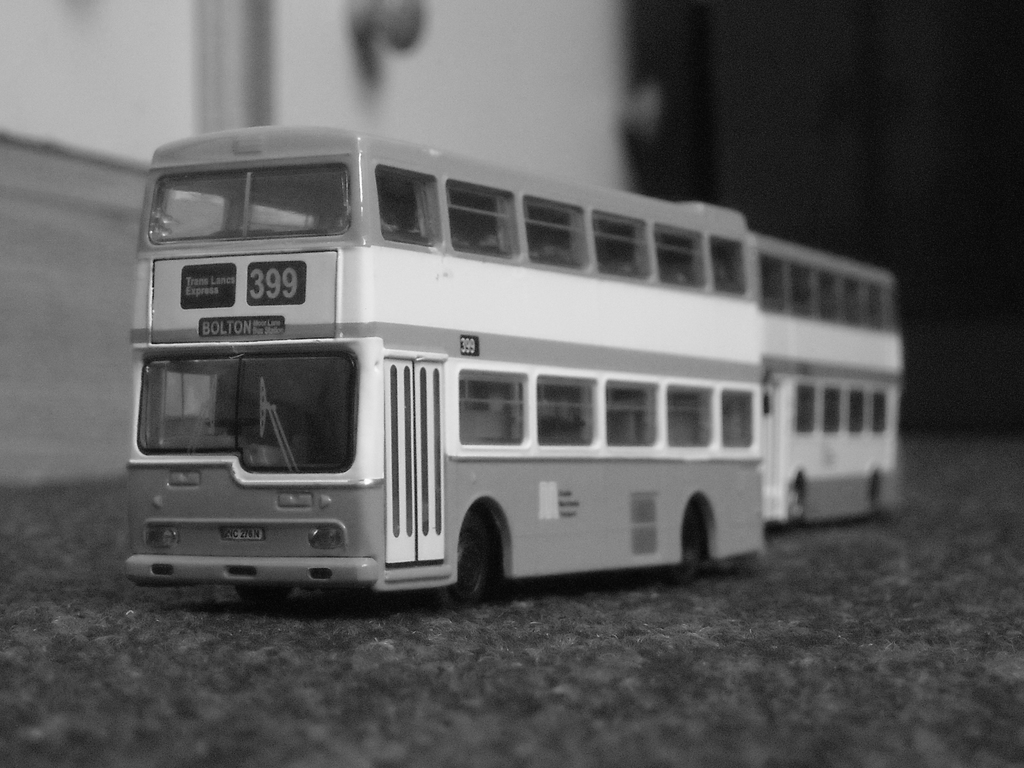Bus: (124, 125, 763, 608), (746, 231, 906, 523)
